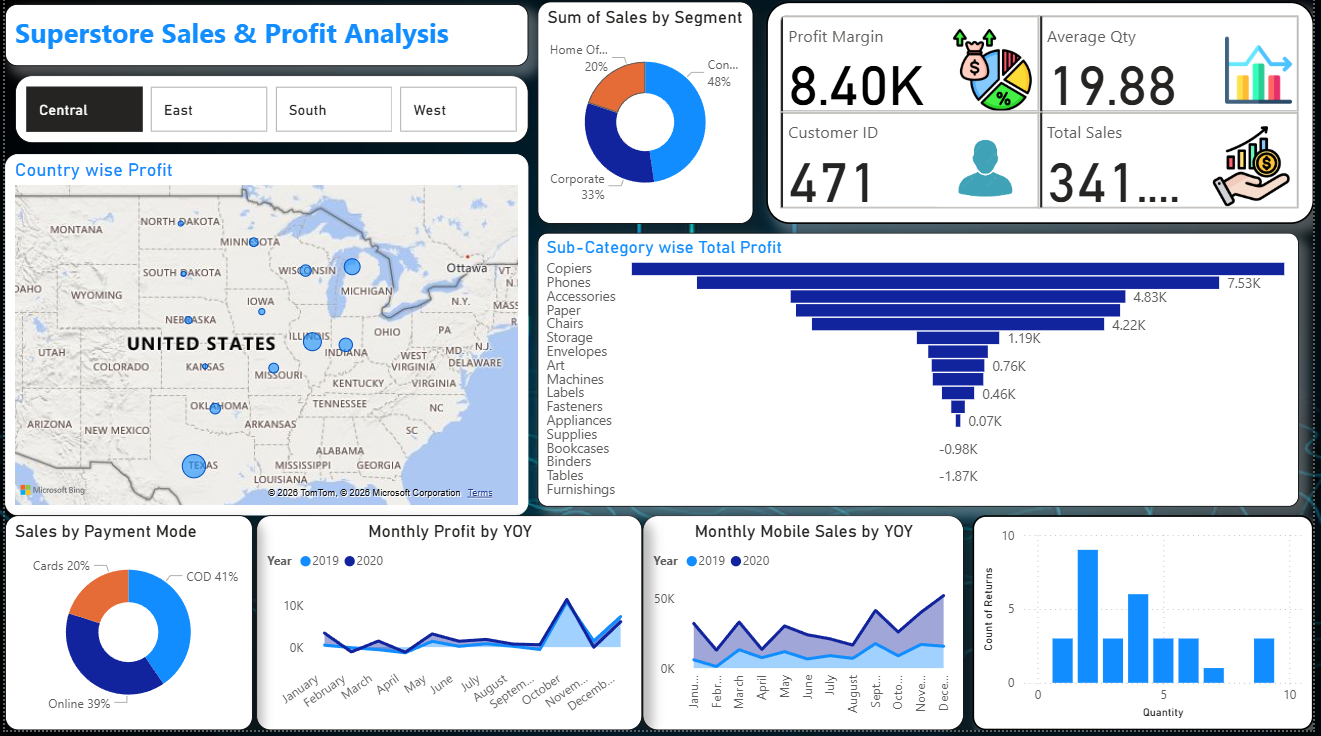

The page's visual inventory and layout, read from the dashboard file:
{"tool":"powerbi","page":{"name":"Page 1","canvas":[1280,720],"ordinal":0},"visuals":[{"type":"stackedAreaChart","title":"Monthly Mobile Sales by YOY","fields":{"Category":["Super Store Sale.Order Date.Variation.Date Hierarchy.Month","Super Store Sale.Order Date.Variation.Date Hierarchy.Day"],"Y":["Sum(Super Store Sale.Sales)"],"Series":["Super Store Sale.Order Date.Variation.Date Hierarchy.Year"]},"box":[623.6,509.9,314.3,210.3],"z":0},{"type":"map","title":"Country wise Profit","fields":{"Size":["Sum(Super Store Sale.Sales)"],"Category":["Super Store Sale.State"]},"box":[0,156.5,512.4,353.4],"z":1000},{"type":"stackedAreaChart","title":"Monthly Profit by YOY","fields":{"Category":["Super Store Sale.Order Date.Variation.Date Hierarchy.Month","Super Store Sale.Order Date.Variation.Date Hierarchy.Day"],"Series":["Super Store Sale.Order Date.Variation.Date Hierarchy.Year"],"Y":["Sum(Super Store Sale.Profit)"]},"box":[245.8,509.9,377.9,210.3],"z":2000},{"type":"donutChart","fields":{"Category":["Super Store Sale.Segment"],"Y":["Sum(Super Store Sale.Sales)"]},"box":[520.9,7.3,211.6,217.7],"z":3000},{"type":"donutChart","title":"Sales by Payment Mode","fields":{"Category":["Super Store Sale.Payment Mode"],"Y":["Sum(Super Store Sale.Sales)"]},"box":[0,509.9,242.1,210.3],"z":4000},{"type":"advancedSlicerVisual","fields":{"Values":["Super Store Sale.Region"]},"box":[25.7,86.8,462.2,58.7],"z":5000},{"type":"textbox","box":[0,9.8,512.4,61.1],"z":6000},{"type":"funnel","title":"Sub-Category wise Total Profit","fields":{"Category":["Super Store Sale.Sub-Category"],"Y":["Sum(Super Store Sale.Profit)"]},"box":[520.9,233.6,744.7,267.8],"z":7000},{"type":"cardVisual","fields":{"Data":["Max(Super Store Sale.Profit)","Avg(Super Store Sale.Profit)1","Count(Super Store Sale.Customer ID)","Sum(Super Store Sale.Sales)"]},"box":[744.7,7.3,535.6,217.7],"z":8000},{"type":"lineStackedColumnComboChart","fields":{"Category":["Super Store Sale.Quantity"],"Y":["CountNonNull(Super Store Sale.Returns)"]},"box":[946.5,509.9,333.8,210.3],"z":9000}]}

Visuals, with their boxes in screenshot pixels (x1, y1, x2, y2), scaled from the page's 1280x720 canvas onto the 1321x736 screenshot:
"Monthly Mobile Sales by YOY" stackedAreaChart: detection(644, 521, 968, 735)
"Country wise Profit" map: detection(0, 160, 529, 521)
"Monthly Profit by YOY" stackedAreaChart: detection(254, 521, 644, 735)
donutChart - Super Store Sale.Segment x Sum(Super Store Sale.Sales): detection(538, 7, 756, 230)
"Sales by Payment Mode" donutChart: detection(0, 521, 250, 735)
advancedSlicerVisual - Super Store Sale.Region: detection(27, 89, 504, 149)
textbox: detection(0, 10, 529, 72)
"Sub-Category wise Total Profit" funnel: detection(538, 239, 1306, 513)
cardVisual - Max(Super Store Sale.Profit) x Avg(Super Store Sale.Profit)1: detection(769, 7, 1320, 230)
lineStackedColumnComboChart - Super Store Sale.Quantity x CountNonNull(Super Store Sale.Returns): detection(977, 521, 1320, 735)
